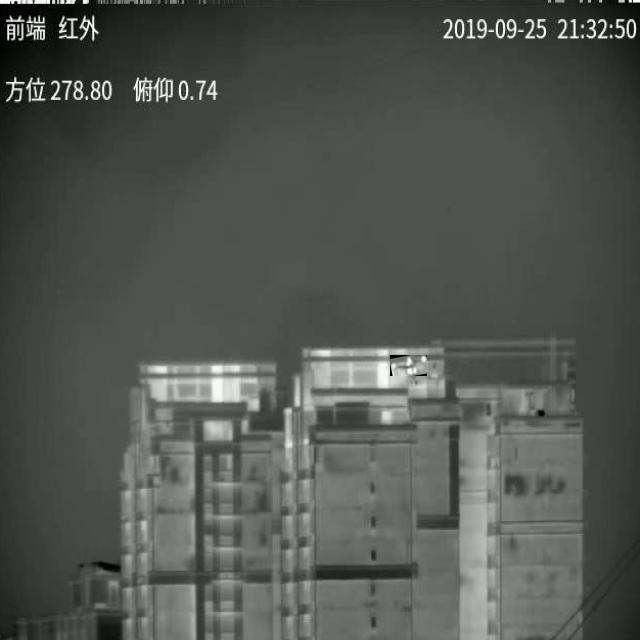drone: (390, 355, 427, 376)
